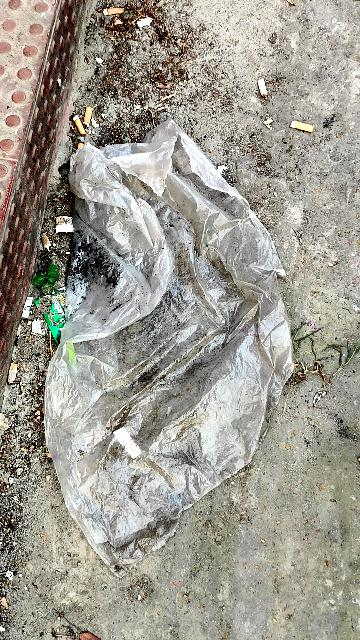polythene: (57, 126, 283, 505)
